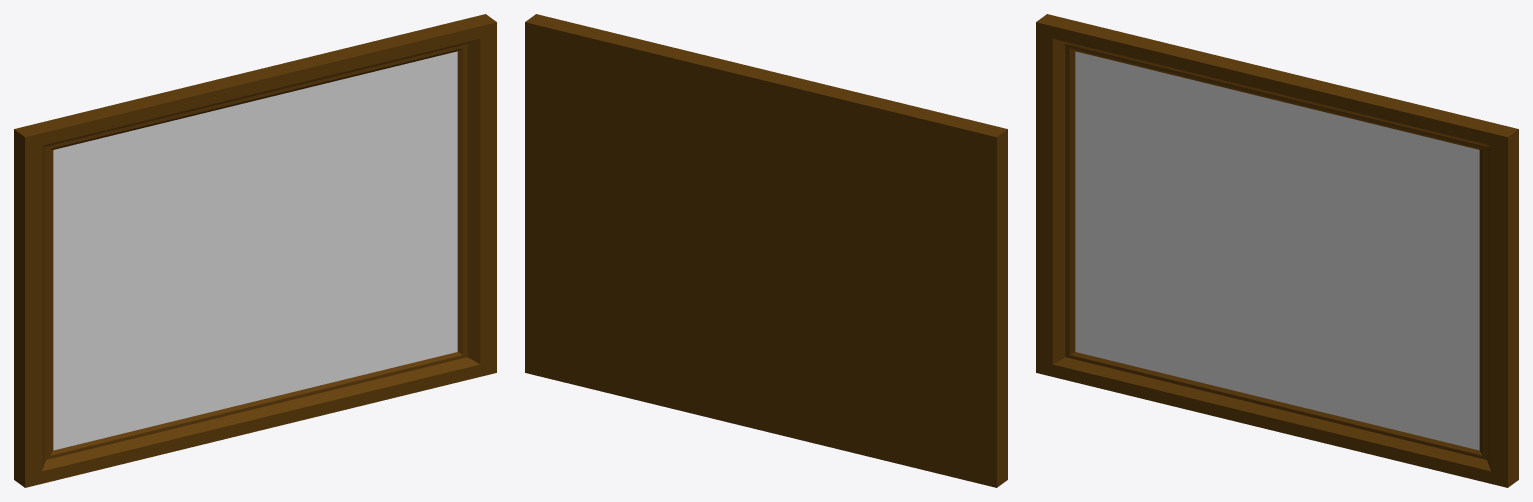
The model's file is CtrlAlt_Moldure_3.fbx.
The picture shows the model from 3 angles, left to right: view 1: azimuth 30°, elevation 25°; view 2: azimuth 150°, elevation 25°; view 3: azimuth 330°, elevation 25°; orthographic projection.
Visible parts, largest first — view 1: Cube; view 2: Cube; view 3: Cube.
Boxes of the visible parts, x1=… form: Cube: x1=14, y1=14, x2=496, y2=487; Cube: x1=525, y1=14, x2=1007, y2=487; Cube: x1=1036, y1=14, x2=1518, y2=487.
Bounding box in the file's own units: 352 × 250 × 14.4.
